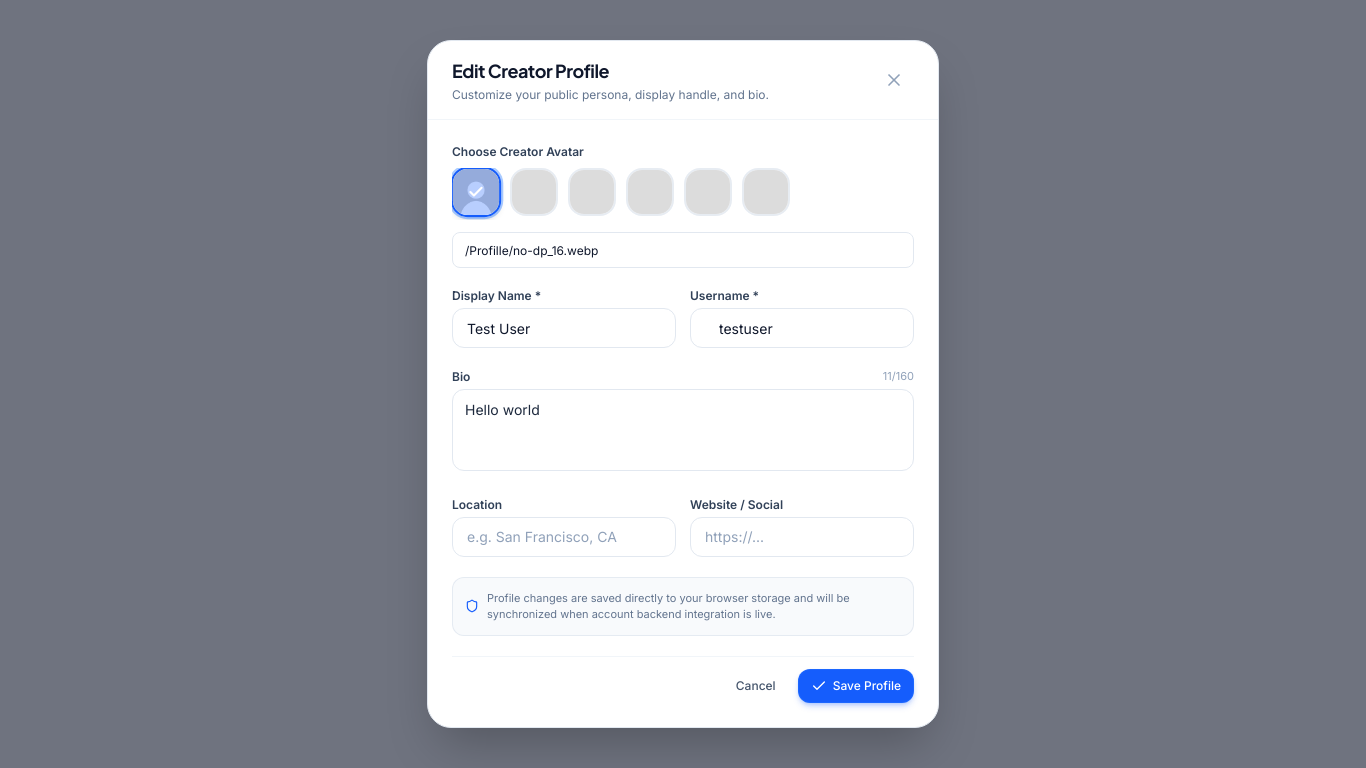
Scenario: EditProfileModal Validation › rejects empty display name and shows clear validation message
The image size is (1366, 768).
Clear the field labelled "Display Name *" at (564, 328), box 452,308 -> 676,348
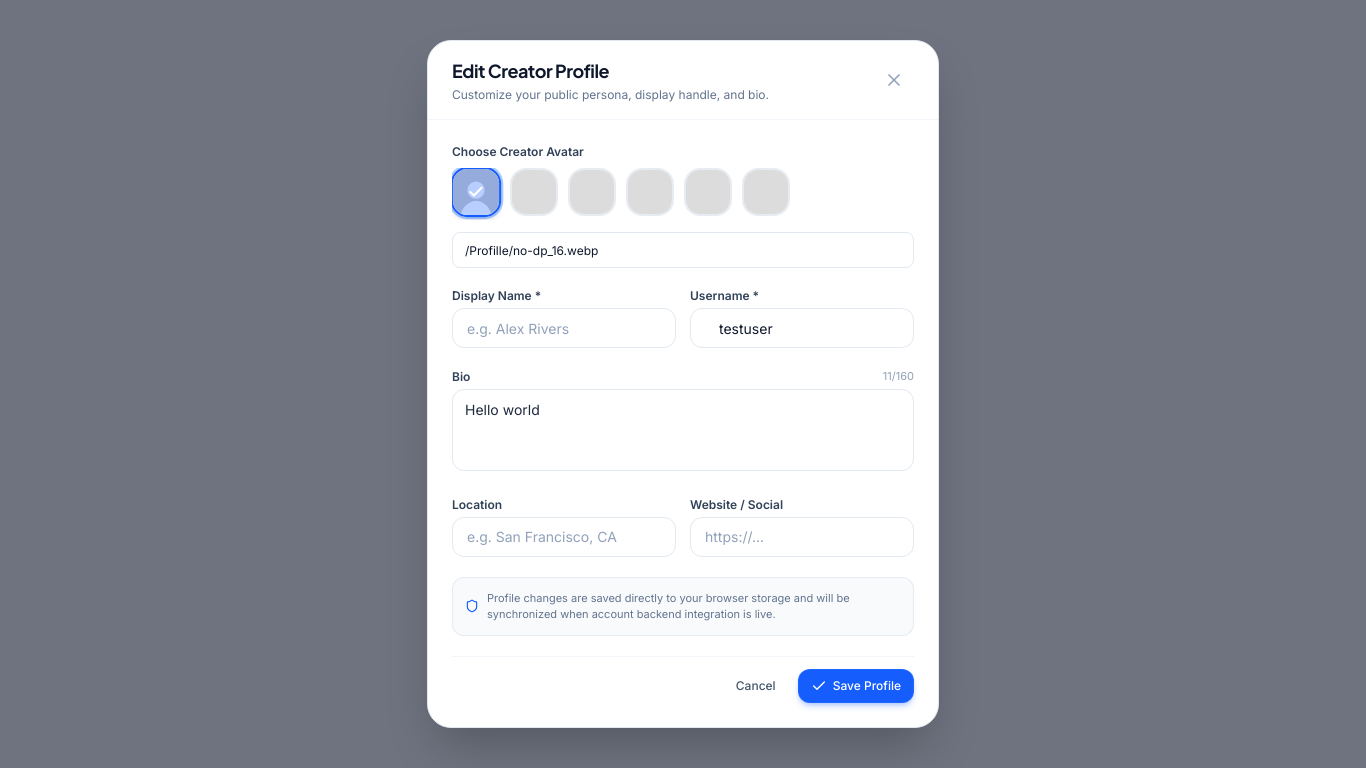
Click the button "Save Profile" at (856, 686), box 798,669 -> 914,703
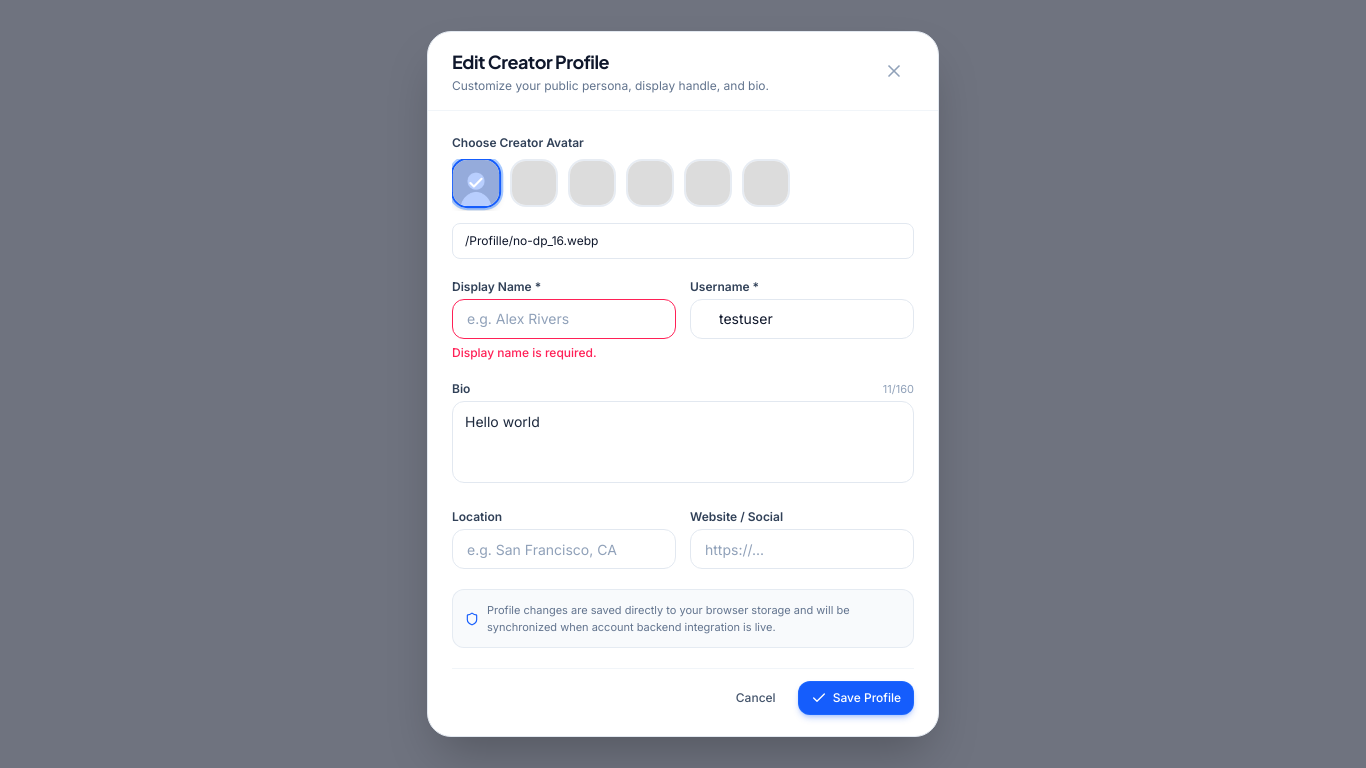
Result: the text "Display name is required." is shown at 452,345 -> 597,360
